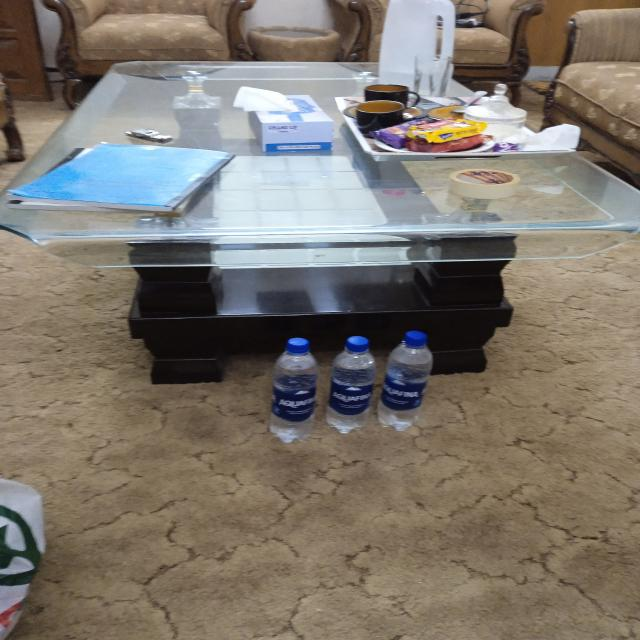Plastic: (330, 336, 380, 436), (275, 337, 320, 445), (388, 332, 430, 434)
